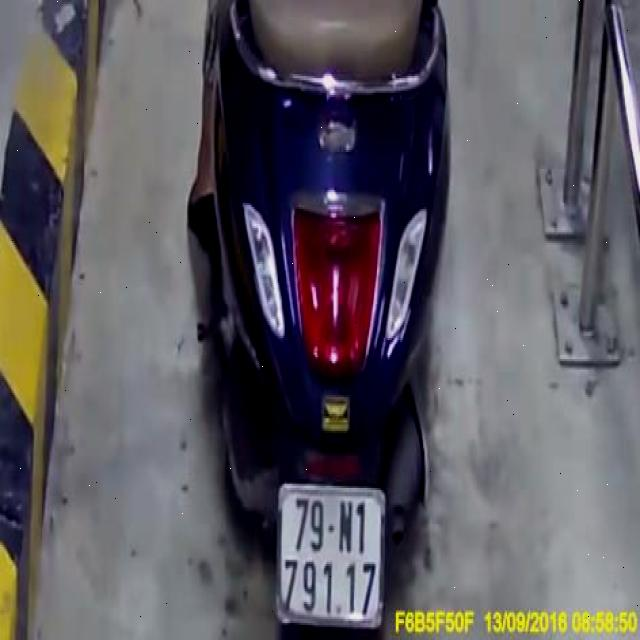1: (355, 498, 367, 555), (322, 561, 334, 616), (346, 560, 356, 614)
7: (284, 556, 300, 613), (294, 497, 310, 551), (362, 561, 376, 617)
9: (301, 560, 318, 615), (310, 498, 326, 554)
N: (338, 498, 354, 556)
